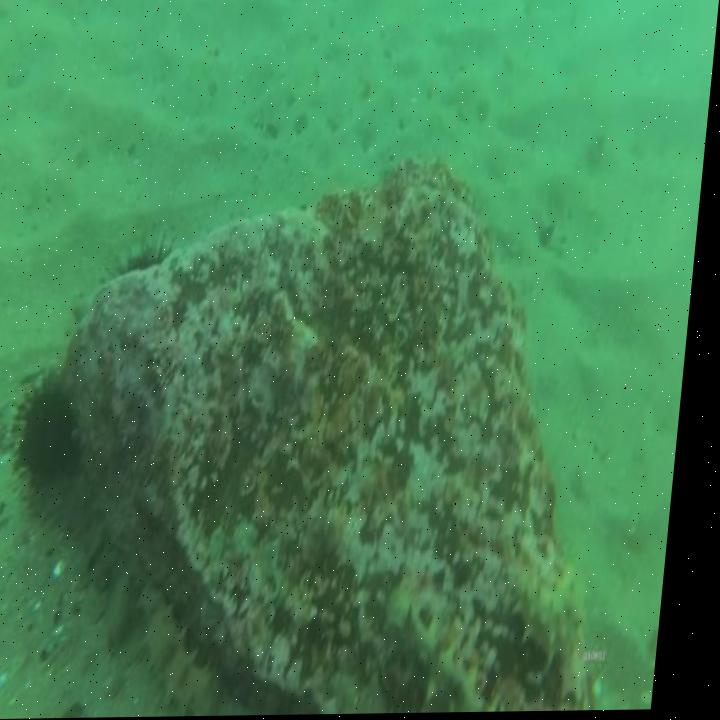echinus: (11, 372, 99, 513)
holothurian: (389, 584, 513, 715), (512, 542, 611, 676), (142, 582, 237, 718)
